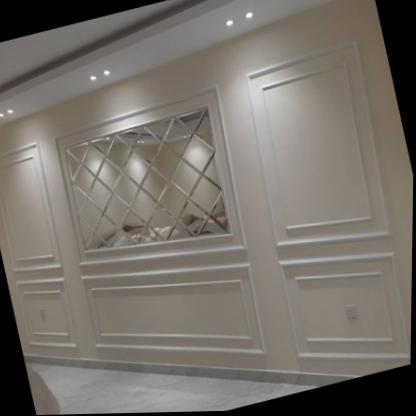Futec frame: (33, 66, 286, 412), (216, 26, 416, 396), (0, 114, 93, 379)
